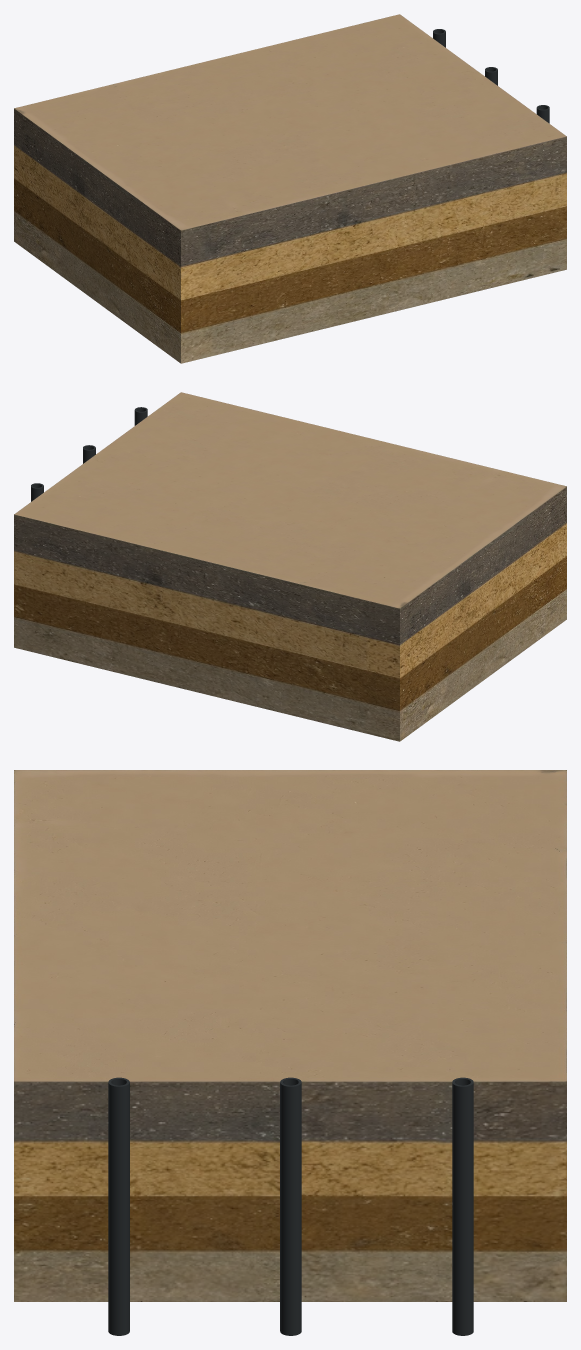
The picture shows the model from 3 angles, top to bottom: view 1: azimuth 30°, elevation 25°; view 2: azimuth 150°, elevation 25°; view 3: azimuth 270°, elevation 25°; orthographic projection. The views are drawn at different scales.
Parts seen in each view (by area): view 1: Well_reconstructed_block; view 2: Well_reconstructed_block; view 3: Well_reconstructed_block, Well_01_hollow_casing, Well_02_hollow_casing, Well_03_hollow_casing.
Part boxes in pixels (bbox=[...]): Well_reconstructed_block: bbox=[14, 14, 566, 363]; Well_reconstructed_block: bbox=[14, 392, 566, 741]; Well_reconstructed_block: bbox=[14, 770, 566, 1301]; Well_01_hollow_casing: bbox=[108, 1077, 129, 1335]; Well_02_hollow_casing: bbox=[280, 1077, 301, 1335]; Well_03_hollow_casing: bbox=[452, 1077, 473, 1335].
Size of the model in its own units: 1.76 by 0.6328 by 1.27.
2 materials, 1 textured.
